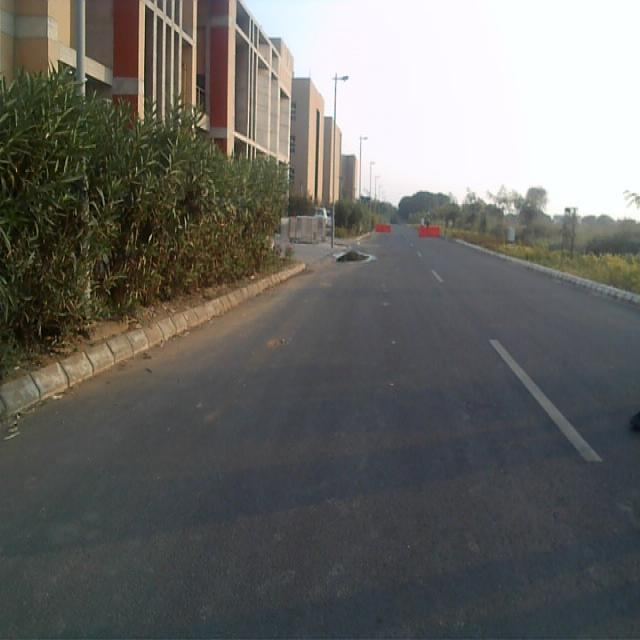lane: (0, 236, 640, 640)
